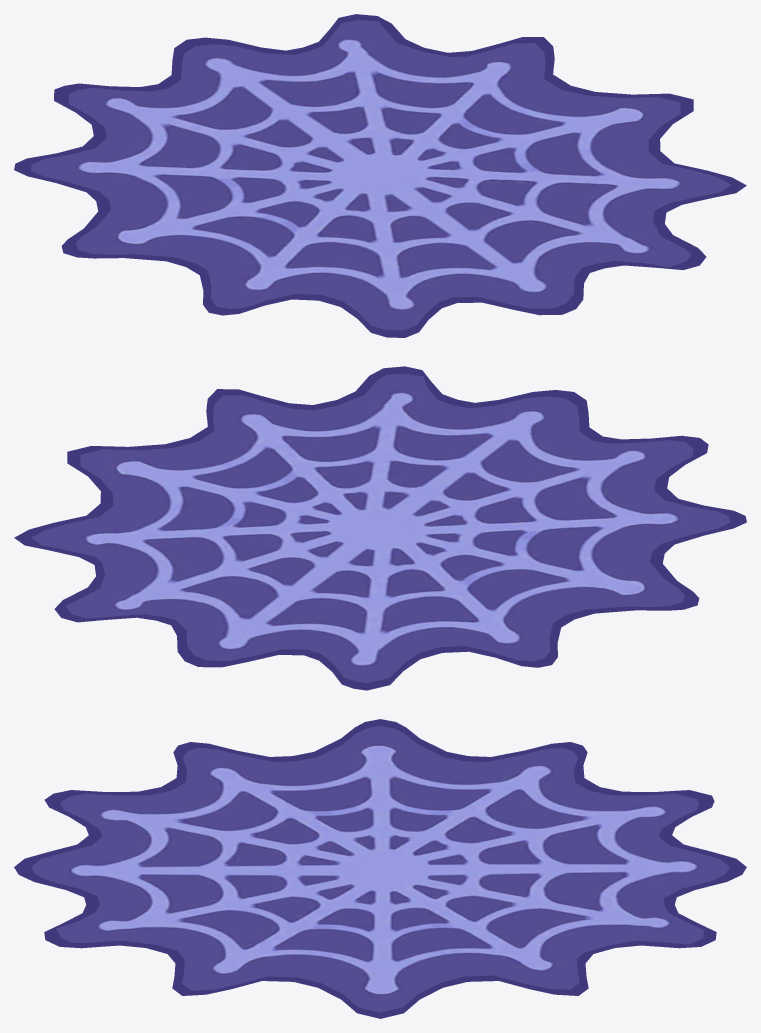
Rendered from my_halloween_01_p_carpet.glb.
3 views of the same model, one above another, from view 1: azimuth 30°, elevation 25°; view 2: azimuth 150°, elevation 25°; view 3: azimuth 270°, elevation 25° (orthographic). The views are drawn at different scales.
Parts seen in each view (by area): view 1: my_halloween_01_p_carpet; view 2: my_halloween_01_p_carpet; view 3: my_halloween_01_p_carpet.
Part boxes in pixels (bbox=[...]): my_halloween_01_p_carpet: bbox=[14, 14, 746, 337]; my_halloween_01_p_carpet: bbox=[14, 366, 746, 690]; my_halloween_01_p_carpet: bbox=[14, 719, 746, 1018].
Bounding box in the file's own units: 0.0238 × 0 × 0.0245.
Materials: 1 (1 with a texture image).
